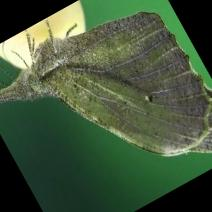butterfly: (0, 12, 212, 156)
